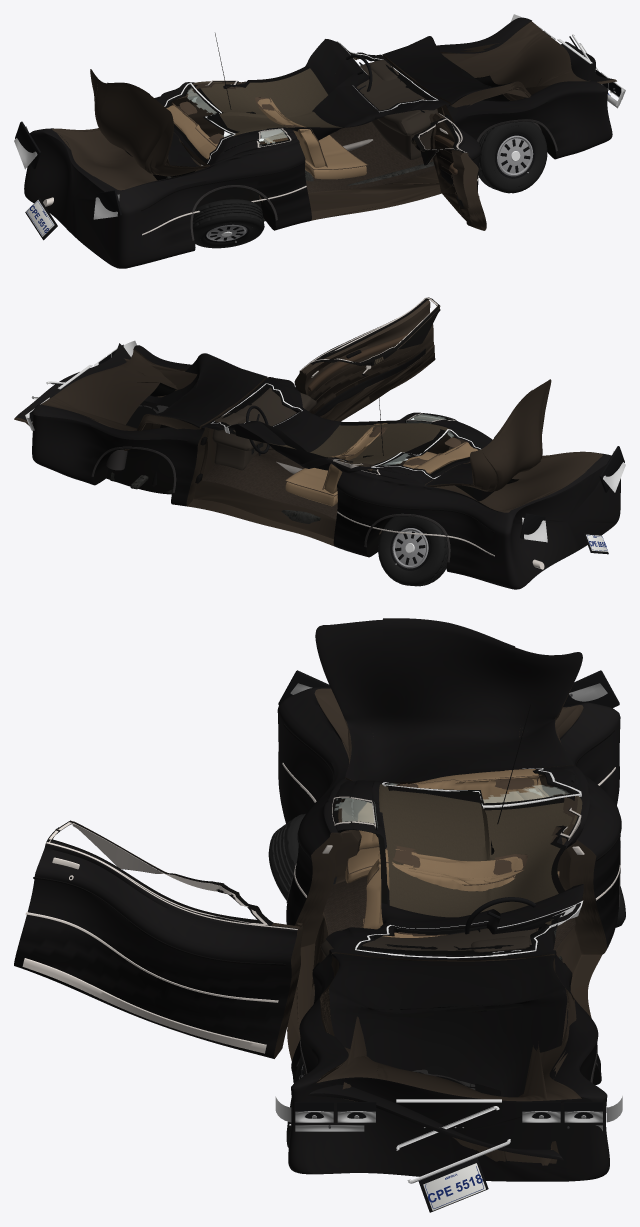
Rendered from coupe84_roll_d3.glb.
3 renders of one model, top to bottom at view 1: azimuth 30°, elevation 25°; view 2: azimuth 150°, elevation 25°; view 3: azimuth 270°, elevation 25°, orthographic. The views are drawn at different scales.
Visible parts, largest first — view 1: Body, Interior, Trunk, Hood, Wheel_FR_mesh, Door_FR, Wheel_RR_mesh, Ends, Trim, Glass, Underbody, Trim_FR; view 2: Body, Door_FR, Hood, Interior, Trunk, Wheel_RL_mesh, Trim_FR, Ends, Trim, Glass, Underbody, Engine; view 3: Body, Trunk, Door_FR, Hood, Interior, Ends, Trim_FR, Glass, Trim, Wheel_RR_mesh.
Boxes of the visible parts, x1,y1,x2,y2 form: Body: [24, 17, 612, 268]; Interior: [166, 59, 438, 179]; Trunk: [90, 69, 209, 176]; Hood: [382, 36, 616, 107]; Wheel_FR_mesh: [478, 121, 547, 193]; Door_FR: [411, 113, 486, 230]; Wheel_RR_mesh: [193, 199, 264, 248]; Ends: [14, 14, 625, 240]; Trim: [141, 33, 557, 240]; Glass: [164, 41, 438, 165]; Underbody: [43, 139, 434, 221]; Trim_FR: [418, 113, 481, 208]; Body: [32, 345, 620, 589]; Door_FR: [294, 298, 440, 421]; Hood: [14, 343, 267, 450]; Interior: [212, 387, 477, 506]; Trunk: [425, 379, 551, 491]; Wheel_RL_mesh: [378, 516, 447, 586]; Trim_FR: [300, 297, 437, 416]; Ends: [25, 340, 625, 554]; Trim: [91, 392, 494, 562]; Glass: [211, 383, 480, 478]; Underbody: [110, 461, 544, 569]; Engine: [106, 400, 168, 470]; Body: [277, 687, 620, 1181]; Trunk: [315, 618, 582, 782]; Door_FR: [14, 820, 302, 1058]; Hood: [307, 953, 576, 1165]; Interior: [320, 768, 559, 957]; Ends: [275, 670, 622, 1212]; Trim_FR: [22, 822, 297, 1053]; Glass: [334, 768, 583, 958]; Trim: [282, 704, 621, 1082]; Wheel_RR_mesh: [268, 813, 336, 900].
Size of the model in its own units: 5.53 by 1.53 by 3.18.
Materials: 29 (5 with a texture image).
